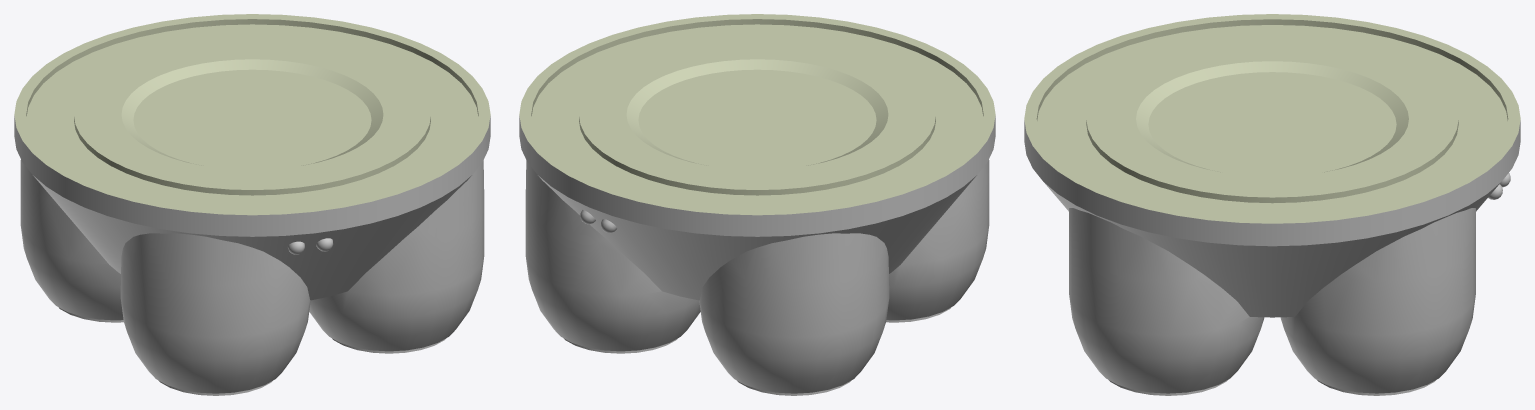
The model's file is RLV_1_Mount_1.obj.
The picture shows the model from 3 angles, left to right: view 1: azimuth 30°, elevation 25°; view 2: azimuth 150°, elevation 25°; view 3: azimuth 270°, elevation 25°; orthographic projection. The views are drawn at different scales.
Visible parts, largest first — view 1: RLV_Mount_1_default, RLV_Mount_1_RLV_Mount_1_auv; view 2: RLV_Mount_1_default, RLV_Mount_1_RLV_Mount_1_auv; view 3: RLV_Mount_1_default, RLV_Mount_1_RLV_Mount_1_auv.
Part boxes in pixels (x1=…): RLV_Mount_1_default: x1=14, y1=14, x2=490, y2=215; RLV_Mount_1_RLV_Mount_1_auv: x1=14, y1=116, x2=490, y2=395; RLV_Mount_1_default: x1=519, y1=14, x2=995, y2=215; RLV_Mount_1_RLV_Mount_1_auv: x1=519, y1=116, x2=995, y2=395; RLV_Mount_1_default: x1=1024, y1=14, x2=1520, y2=223; RLV_Mount_1_RLV_Mount_1_auv: x1=1024, y1=120, x2=1520, y2=395.
Bounding box in the file's own units: 5 × 2.28 × 5.
